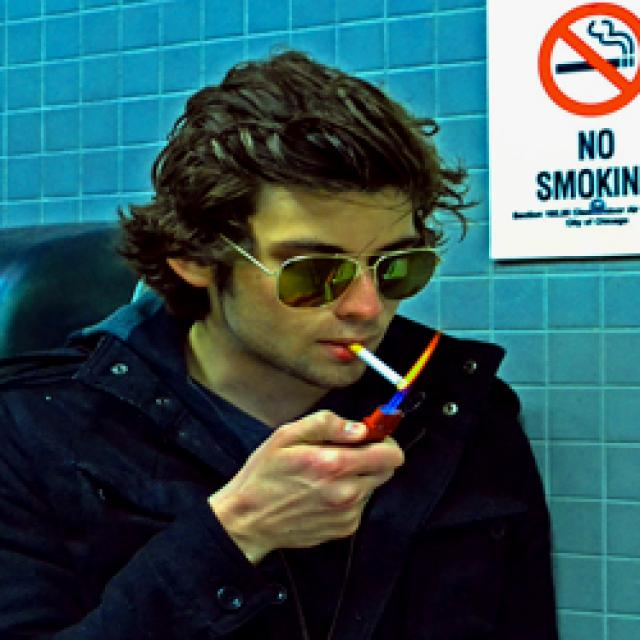Smooking: (334, 336, 422, 400)
